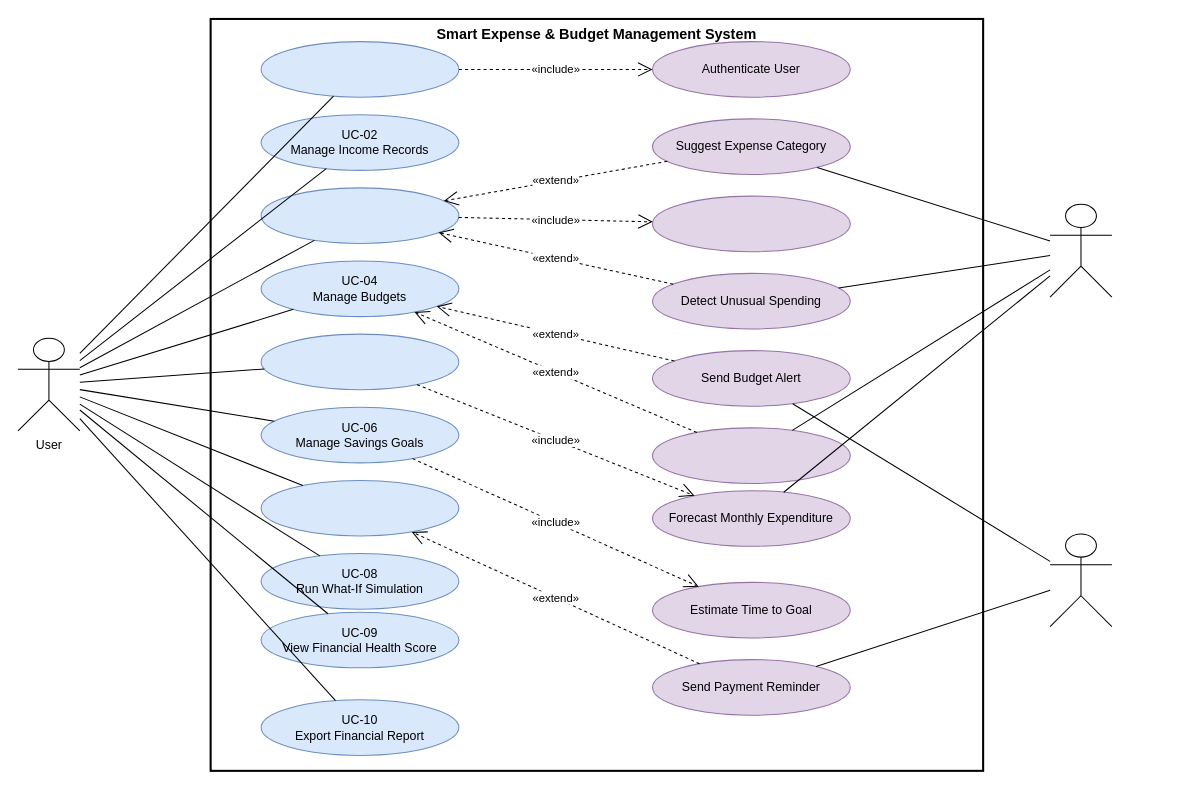
This 1177x789 diagram has some shape labels left out. The centre of each missing label's shape, as x and y in pixels:
"Analytics / Prediction Engine" goes at (1080,250).
"Notification Service" goes at (1080,580).
"Recommend Budget" goes at (750,455).
"UC-01 Register & Login" goes at (359,69).
"UC-03 Manage Expense Records" goes at (359,215).
"UC-05 View Dashboard & Analytics" goes at (359,361).
"UC-07 Manage Recurring Expenses" goes at (359,507).
"Validate & Categorize Entry" goes at (750,223).
